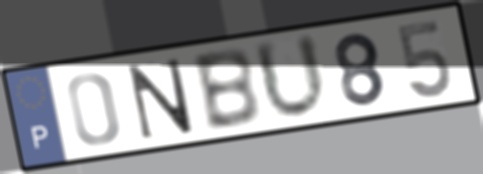0: (65, 70, 124, 147)
5: (394, 16, 454, 101)
8: (333, 30, 389, 109)
B: (188, 45, 264, 134)
N: (125, 55, 197, 142)
U: (249, 31, 331, 123)
